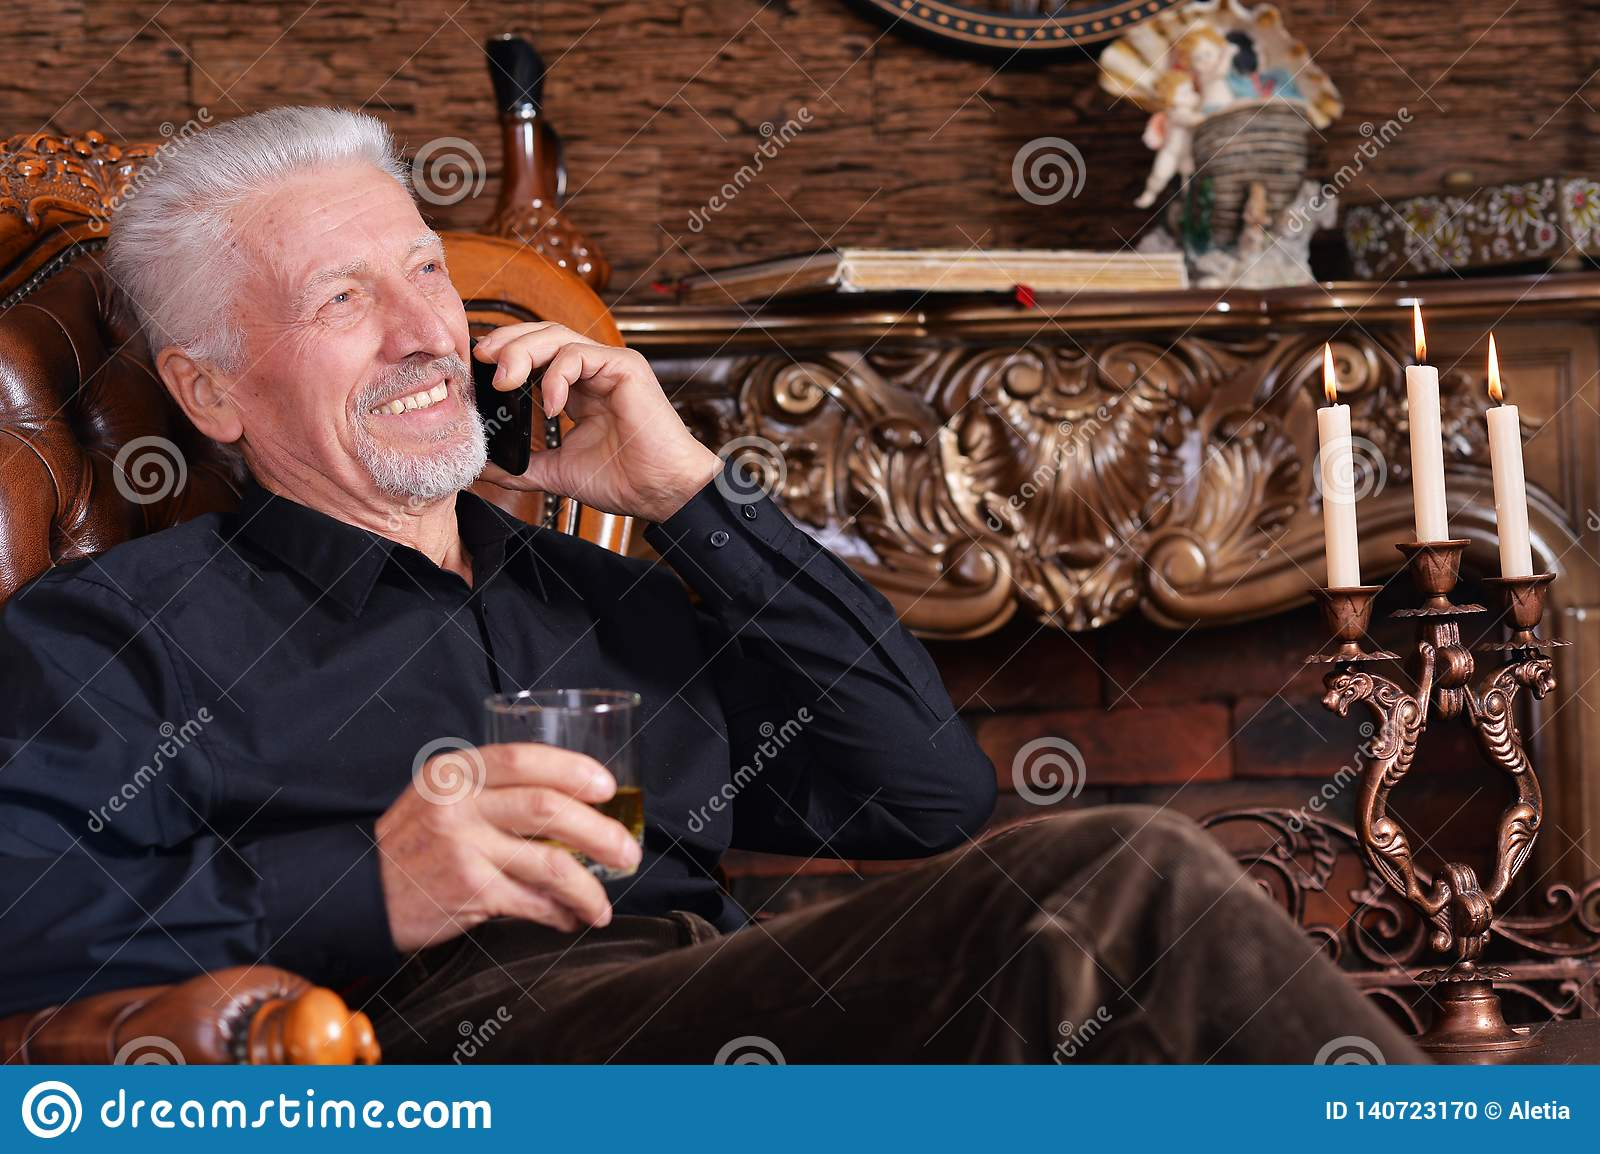phone: (458, 340, 542, 479)
talk: (292, 220, 673, 518)
